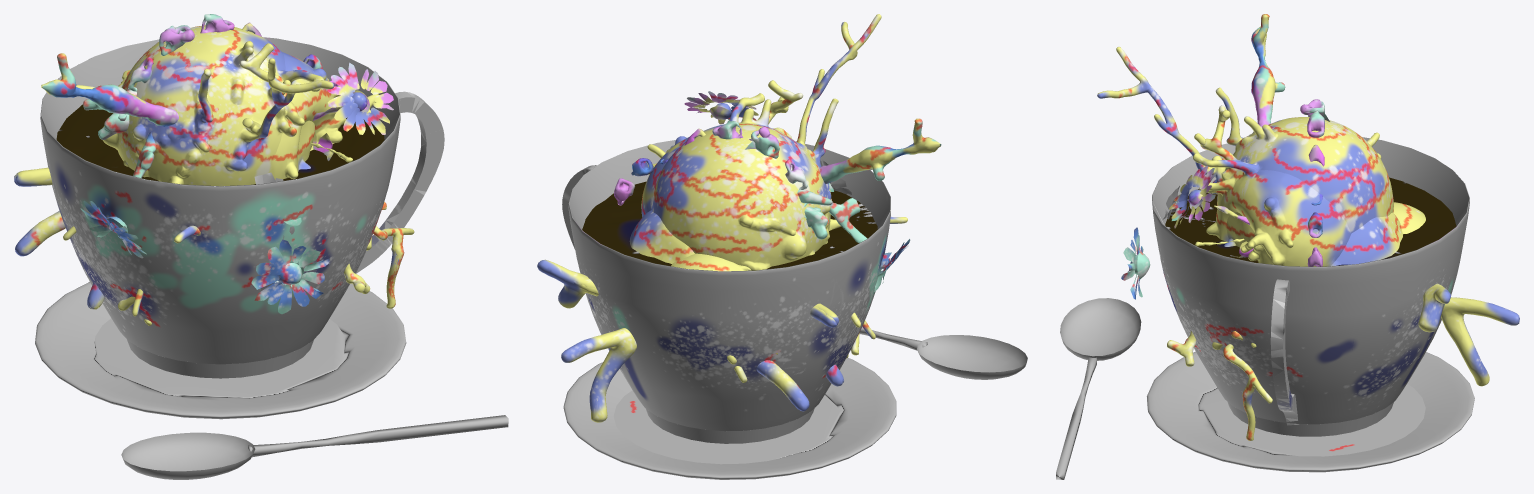
3 renders of one model, left to right at view 1: azimuth 30°, elevation 25°; view 2: azimuth 150°, elevation 25°; view 3: azimuth 270°, elevation 25°, orthographic. The views are drawn at different scales.
Parts seen in each view (by area): view 1: yappi2 copy; view 2: yappi2 copy; view 3: yappi2 copy.
Boxes of the visible parts, <box> form: yappi2 copy: <box>14,14,508,479</box>; yappi2 copy: <box>537,14,1027,479</box>; yappi2 copy: <box>1056,14,1519,479</box>.
Bounding box in the file's own units: 0.2346 × 0.2129 × 0.2574.
17 materials, 1 textured.
